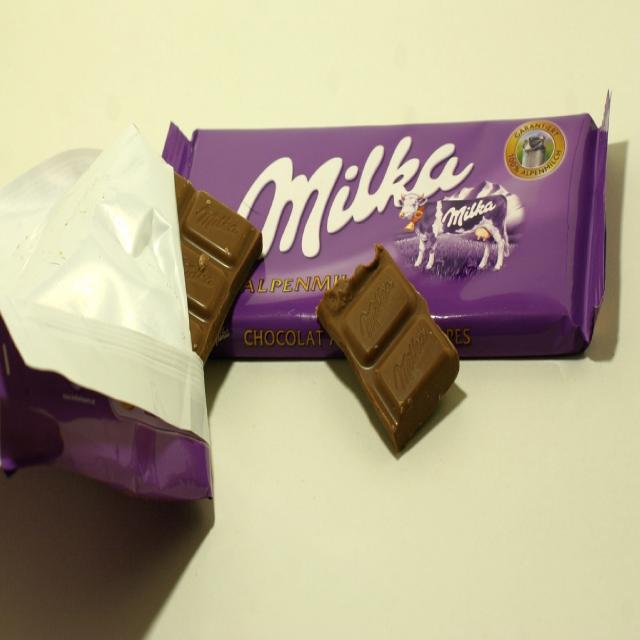milka: (235, 135, 527, 289)
